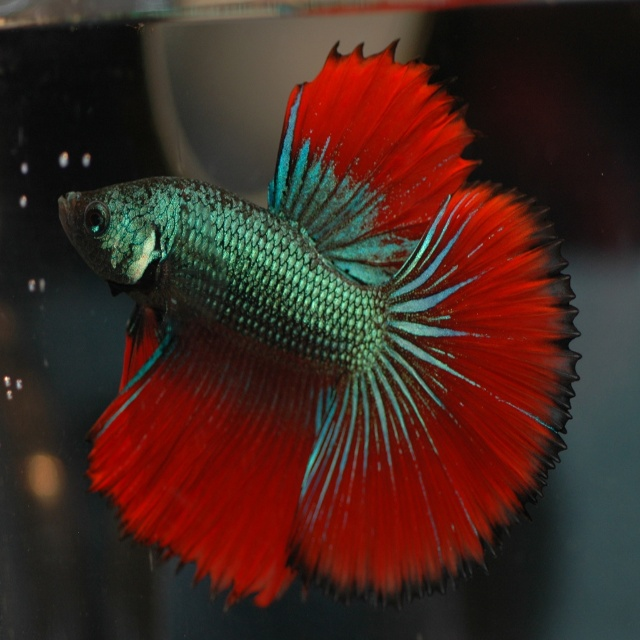Fish: (56, 35, 584, 612)
